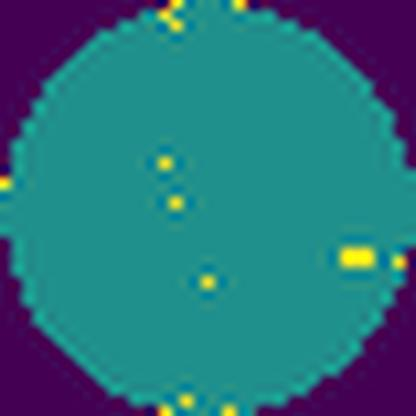Loc: (335, 244, 376, 267)
